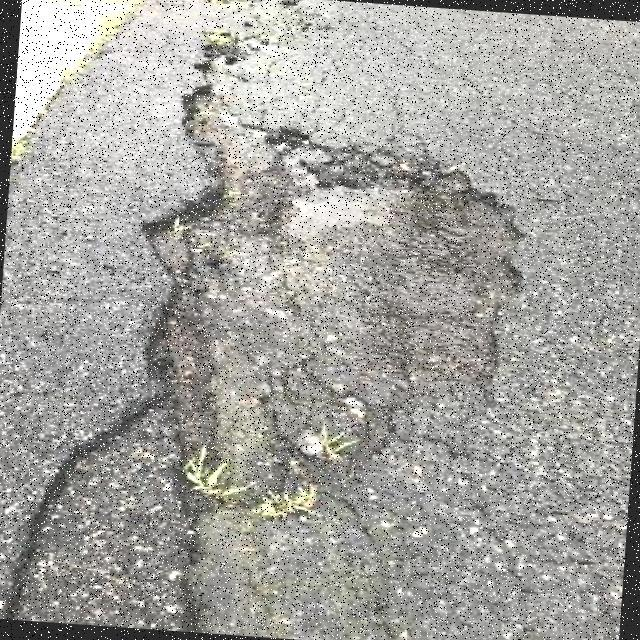Pothole: (10, 36, 528, 634)
